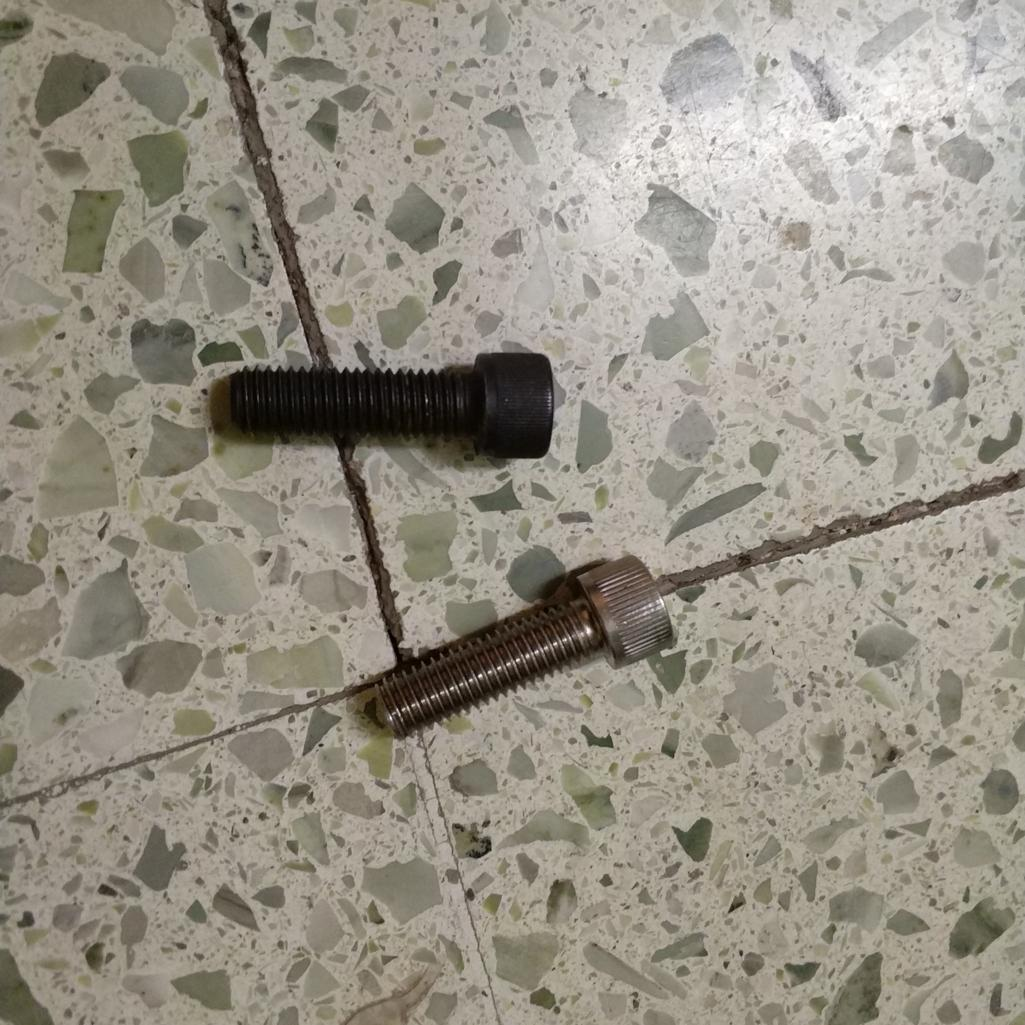screwtype1black: (211, 339, 556, 468)
screwtype1silver: (341, 551, 674, 735)
